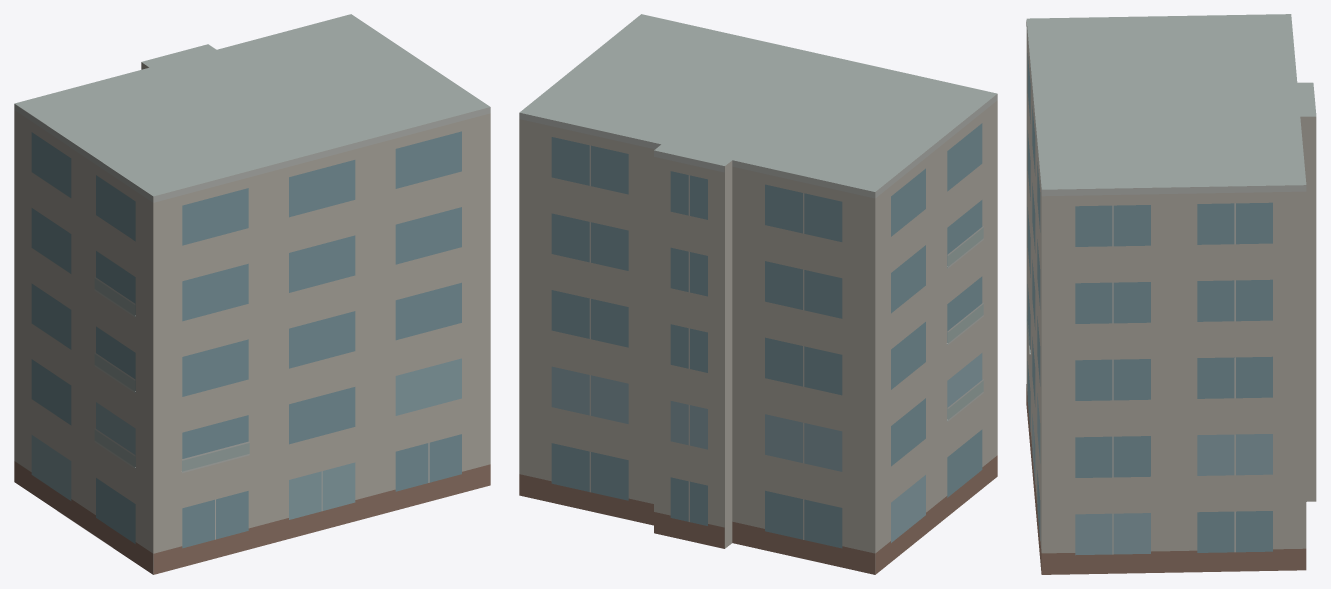
File: survey-upis-32941209.glb
3 renders of one model, left to right at view 1: azimuth 30°, elevation 25°; view 2: azimuth 150°, elevation 25°; view 3: azimuth 270°, elevation 25°, orthographic.
Parts seen in each view (by area): view 1: survey-upis-32941209.tmp; view 2: survey-upis-32941209.tmp; view 3: survey-upis-32941209.tmp.
Part boxes in pixels (left/top/right/bottom): survey-upis-32941209.tmp: left=14, top=14, right=490, bottom=574; survey-upis-32941209.tmp: left=519, top=14, right=997, bottom=574; survey-upis-32941209.tmp: left=1026, top=14, right=1316, bottom=574.
Bounding box in the file's own units: 14.2 × 14.5 × 9.91.
